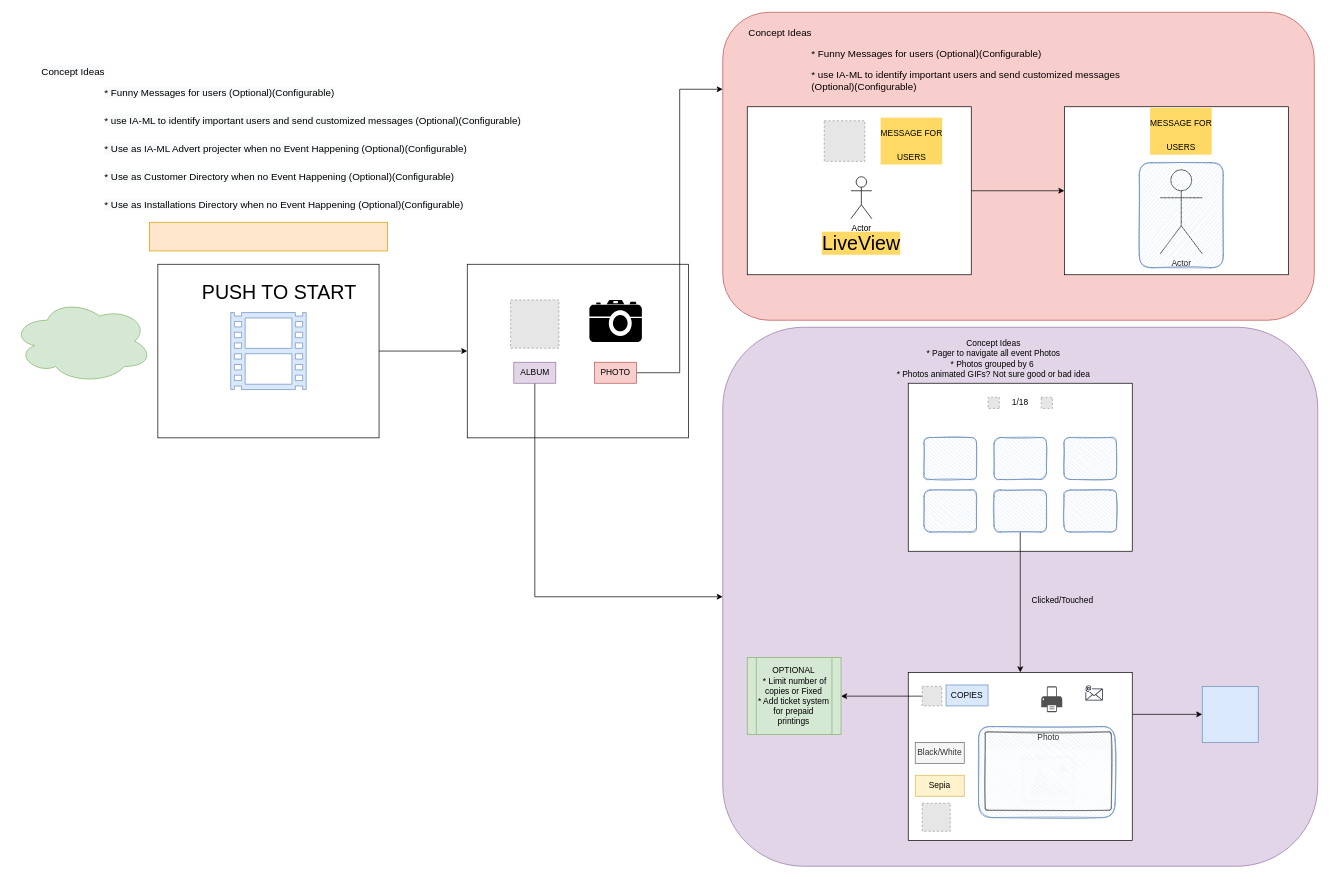
This 1330x879 diagram has some shape labels left out. Grey dashed boxes stand in for pictures. The centre of each missing label's shape, as x and y in pixels:
* flashing * animated: the point at 82,341
Email: the point at 1094,692
Future: Add Social Media Buttons: the point at 1230,714
MAIN WAIT SCREEN: the point at 268,236
